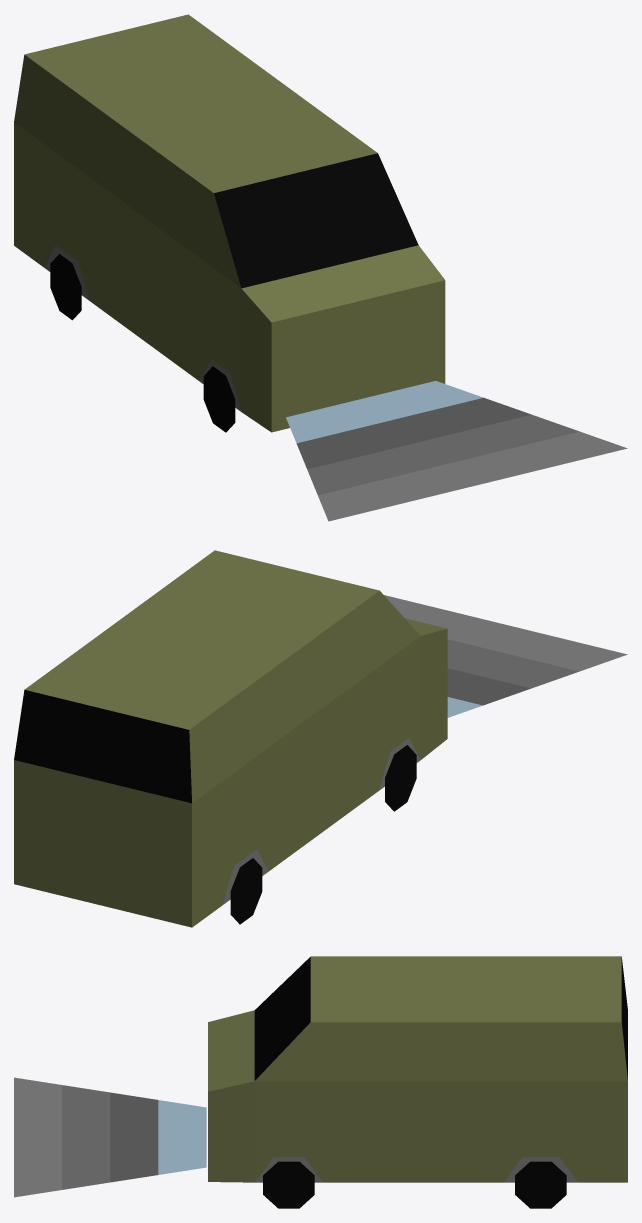
File: AUTO6.glb
3 renders of one model, top to bottom at view 1: azimuth 30°, elevation 25°; view 2: azimuth 150°, elevation 25°; view 3: azimuth 270°, elevation 25°, orthographic. The views are drawn at different scales.
Parts seen in each view (by area): view 1: AUTO6 | archived geometry; view 2: AUTO6 | archived geometry; view 3: AUTO6 | archived geometry.
Boxes of the visible parts, x1,y1,x2,y2 form: AUTO6 | archived geometry: (14,14,627,521); AUTO6 | archived geometry: (14,550,627,927); AUTO6 | archived geometry: (14,956,627,1208).
Bounding box in the file's own units: 3.33 × 2.37 × 7.2.
